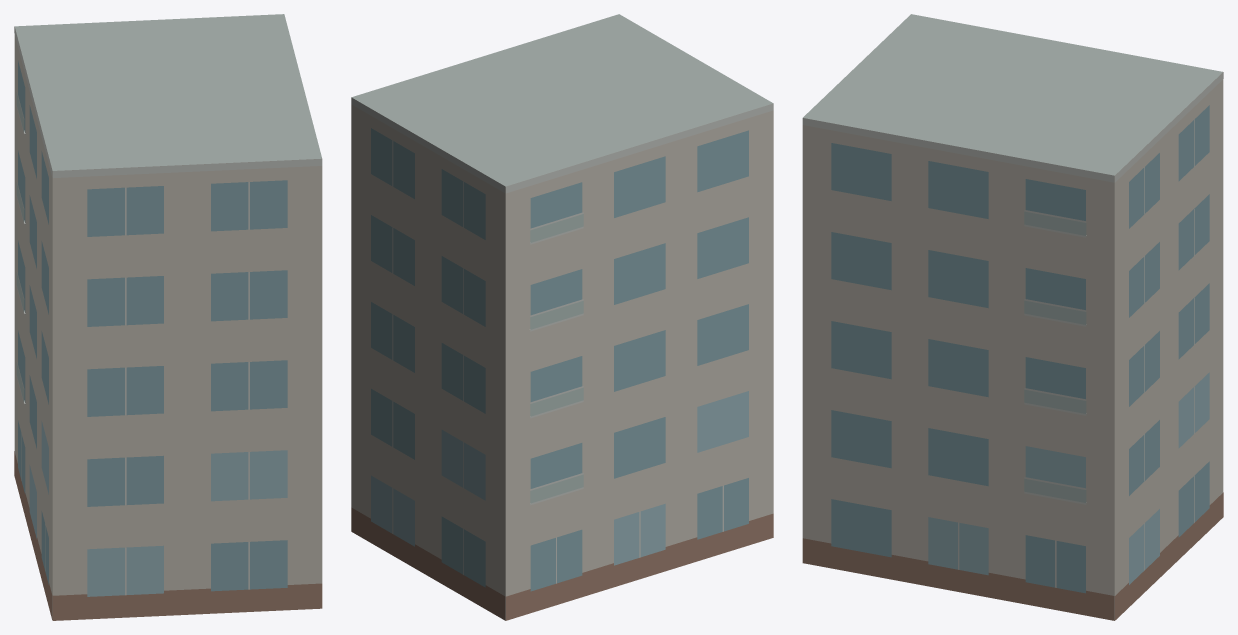
File: survey-upis-32725859.glb
The picture shows the model from 3 angles, left to right: view 1: azimuth 30°, elevation 25°; view 2: azimuth 150°, elevation 25°; view 3: azimuth 270°, elevation 25°; orthographic projection. The views are drawn at different scales.
Visible parts, largest first — view 1: survey-upis-32725859.tmp; view 2: survey-upis-32725859.tmp; view 3: survey-upis-32725859.tmp.
Boxes of the visible parts, x1=… form: survey-upis-32725859.tmp: x1=14, y1=14, x2=322, y2=620; survey-upis-32725859.tmp: x1=351, y1=14, x2=773, y2=620; survey-upis-32725859.tmp: x1=802, y1=14, x2=1223, y2=620.
Size of the model in its own units: 11.88 by 15.25 by 13.07.
